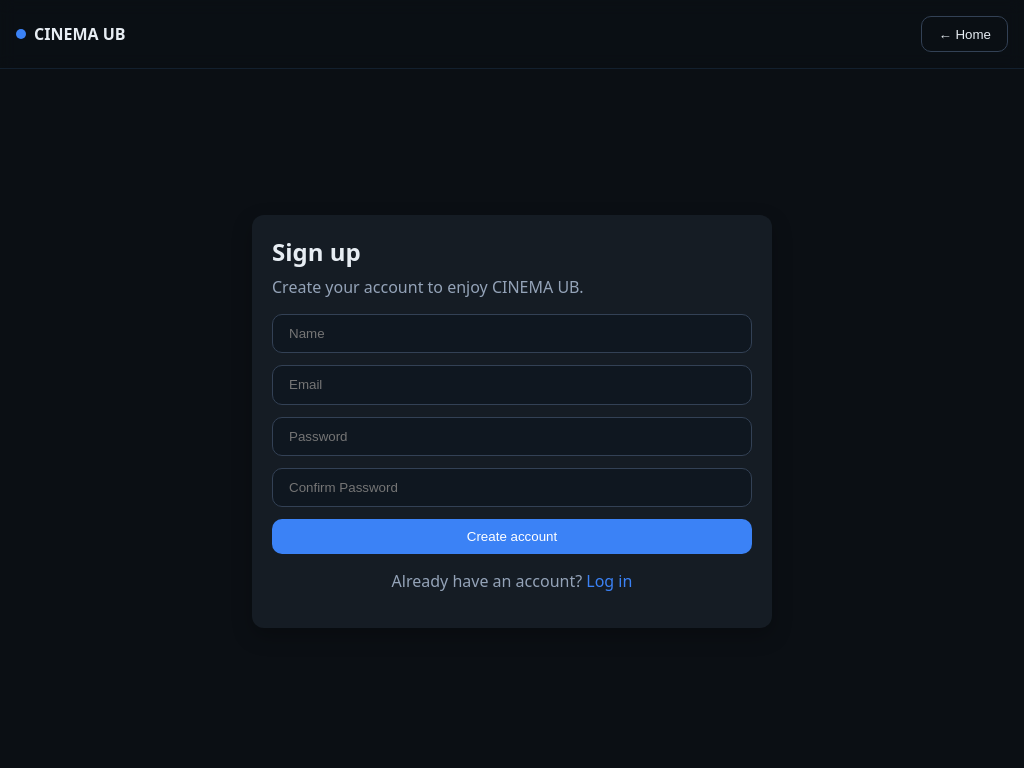
Register - flujo de registro de usuario › muestra un error si las contraseñas no coinciden y NO hace petición al backend
This screenshot has width=1024, height=768.
Type "mismatchUser" into the field with placeholder "Name" at (512, 334), box [272,314,752,353]
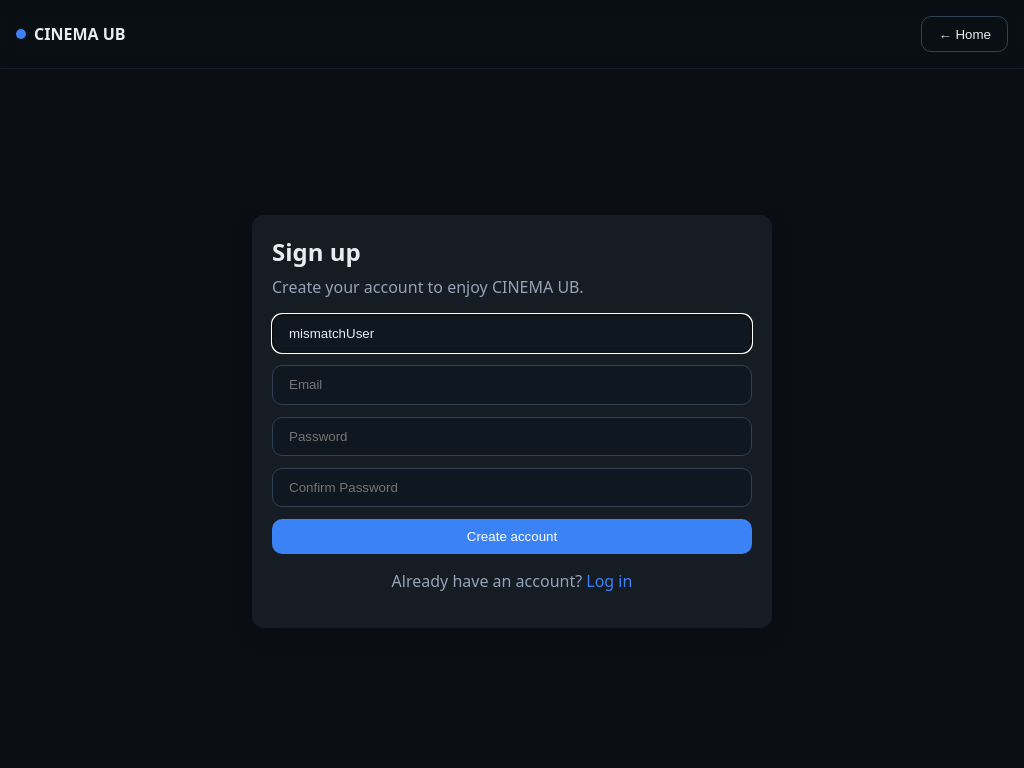
Type "mismatch@example.com" into the field with placeholder "Email" at (512, 385), box [272,365,752,404]
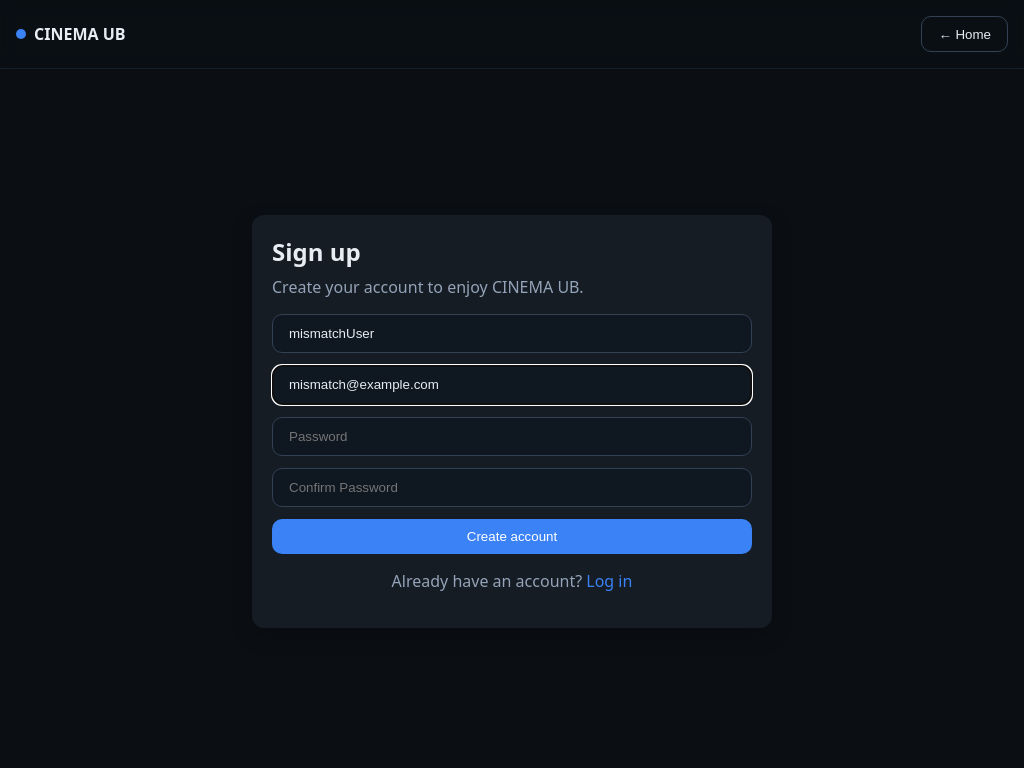
Type "Password123!" into the password field with placeholder "Password" at (512, 437), box [272,417,752,456]
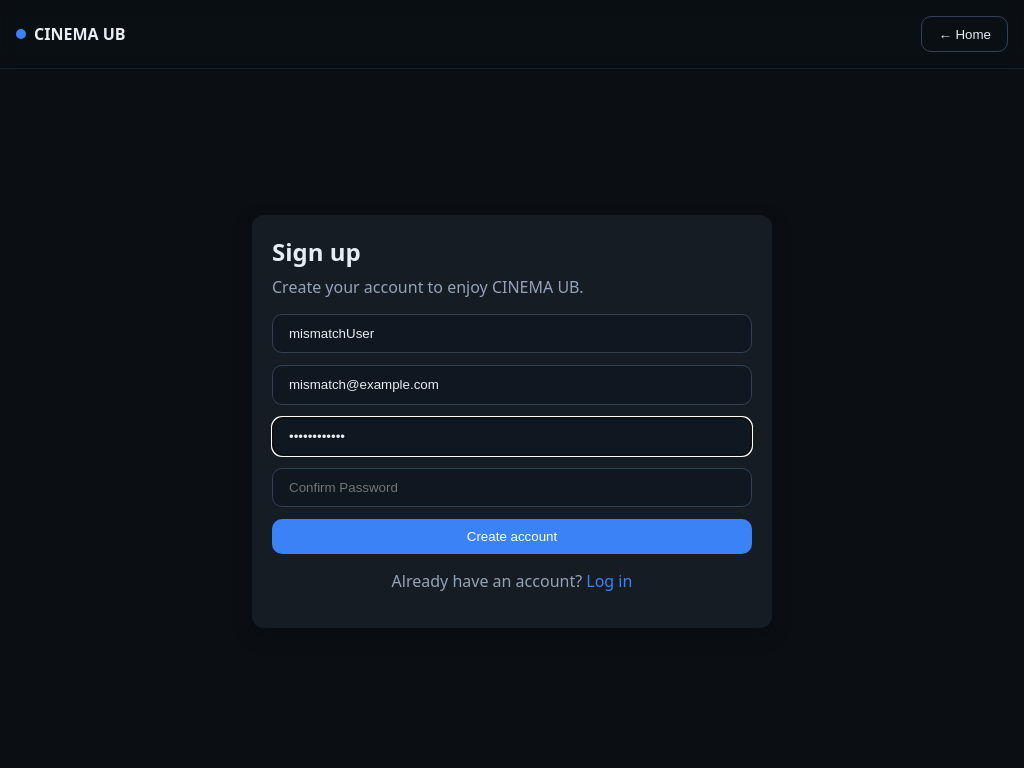
Type "Password456!" into the password field with placeholder "Confirm Password" at (512, 488), box [272,468,752,507]
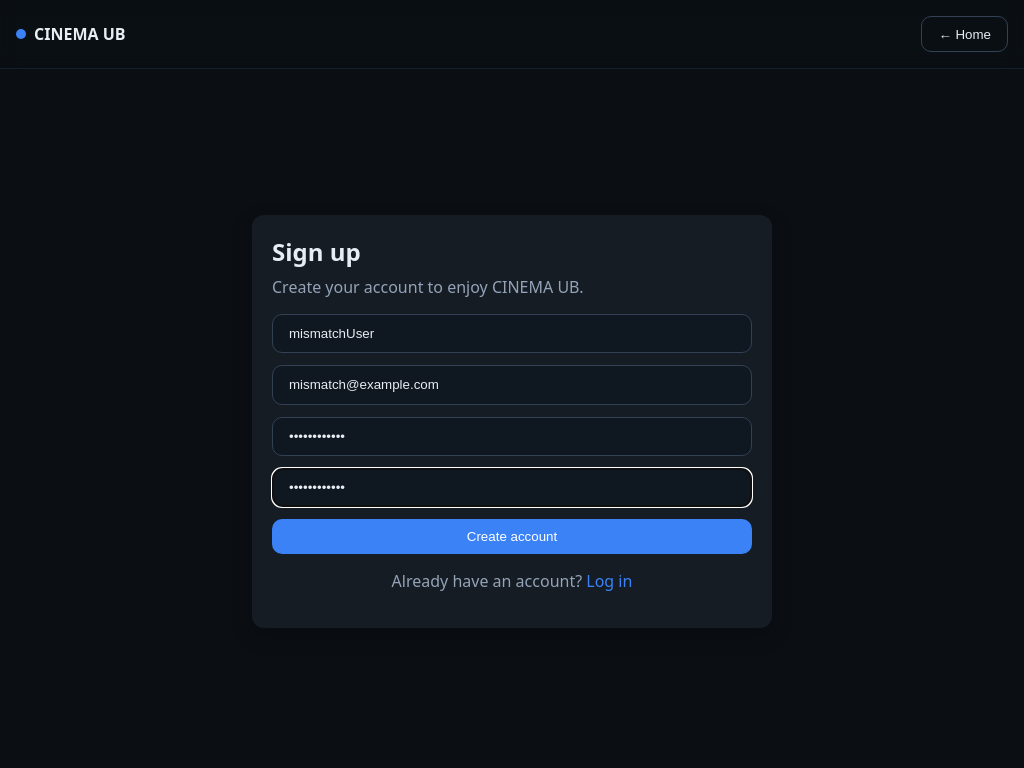
Click the button "Create account" at (512, 536), box [272,519,752,553]
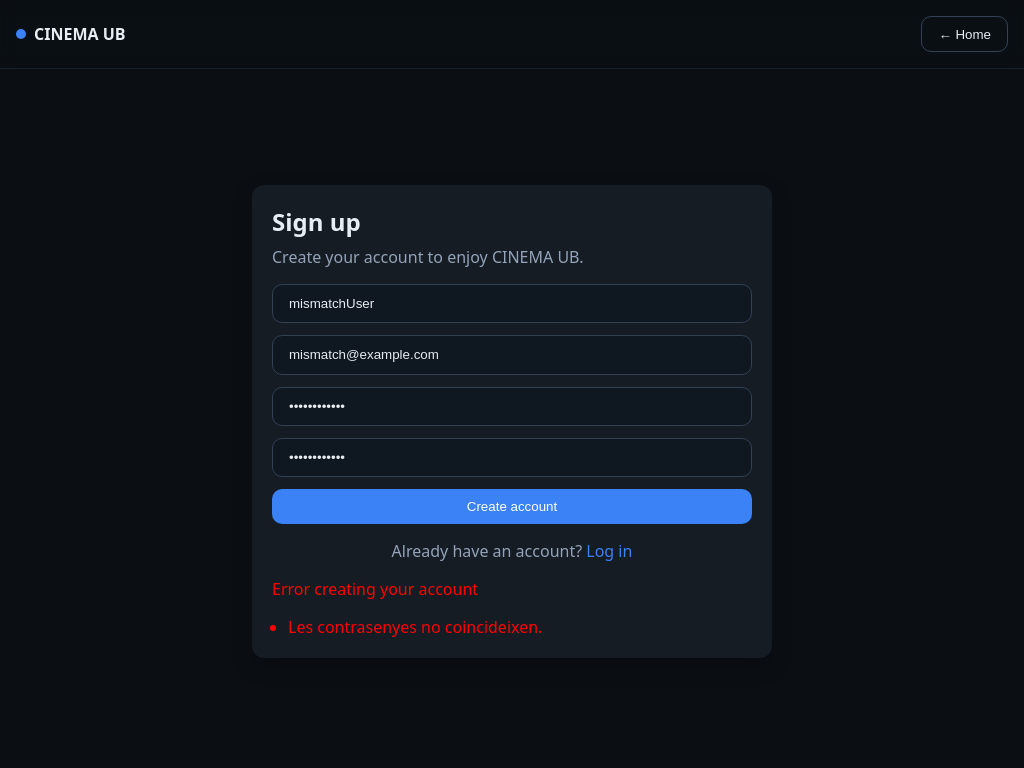
expect the list item "Les contrasenyes no coincideixen." is shown: met, box [288,616,542,638]
